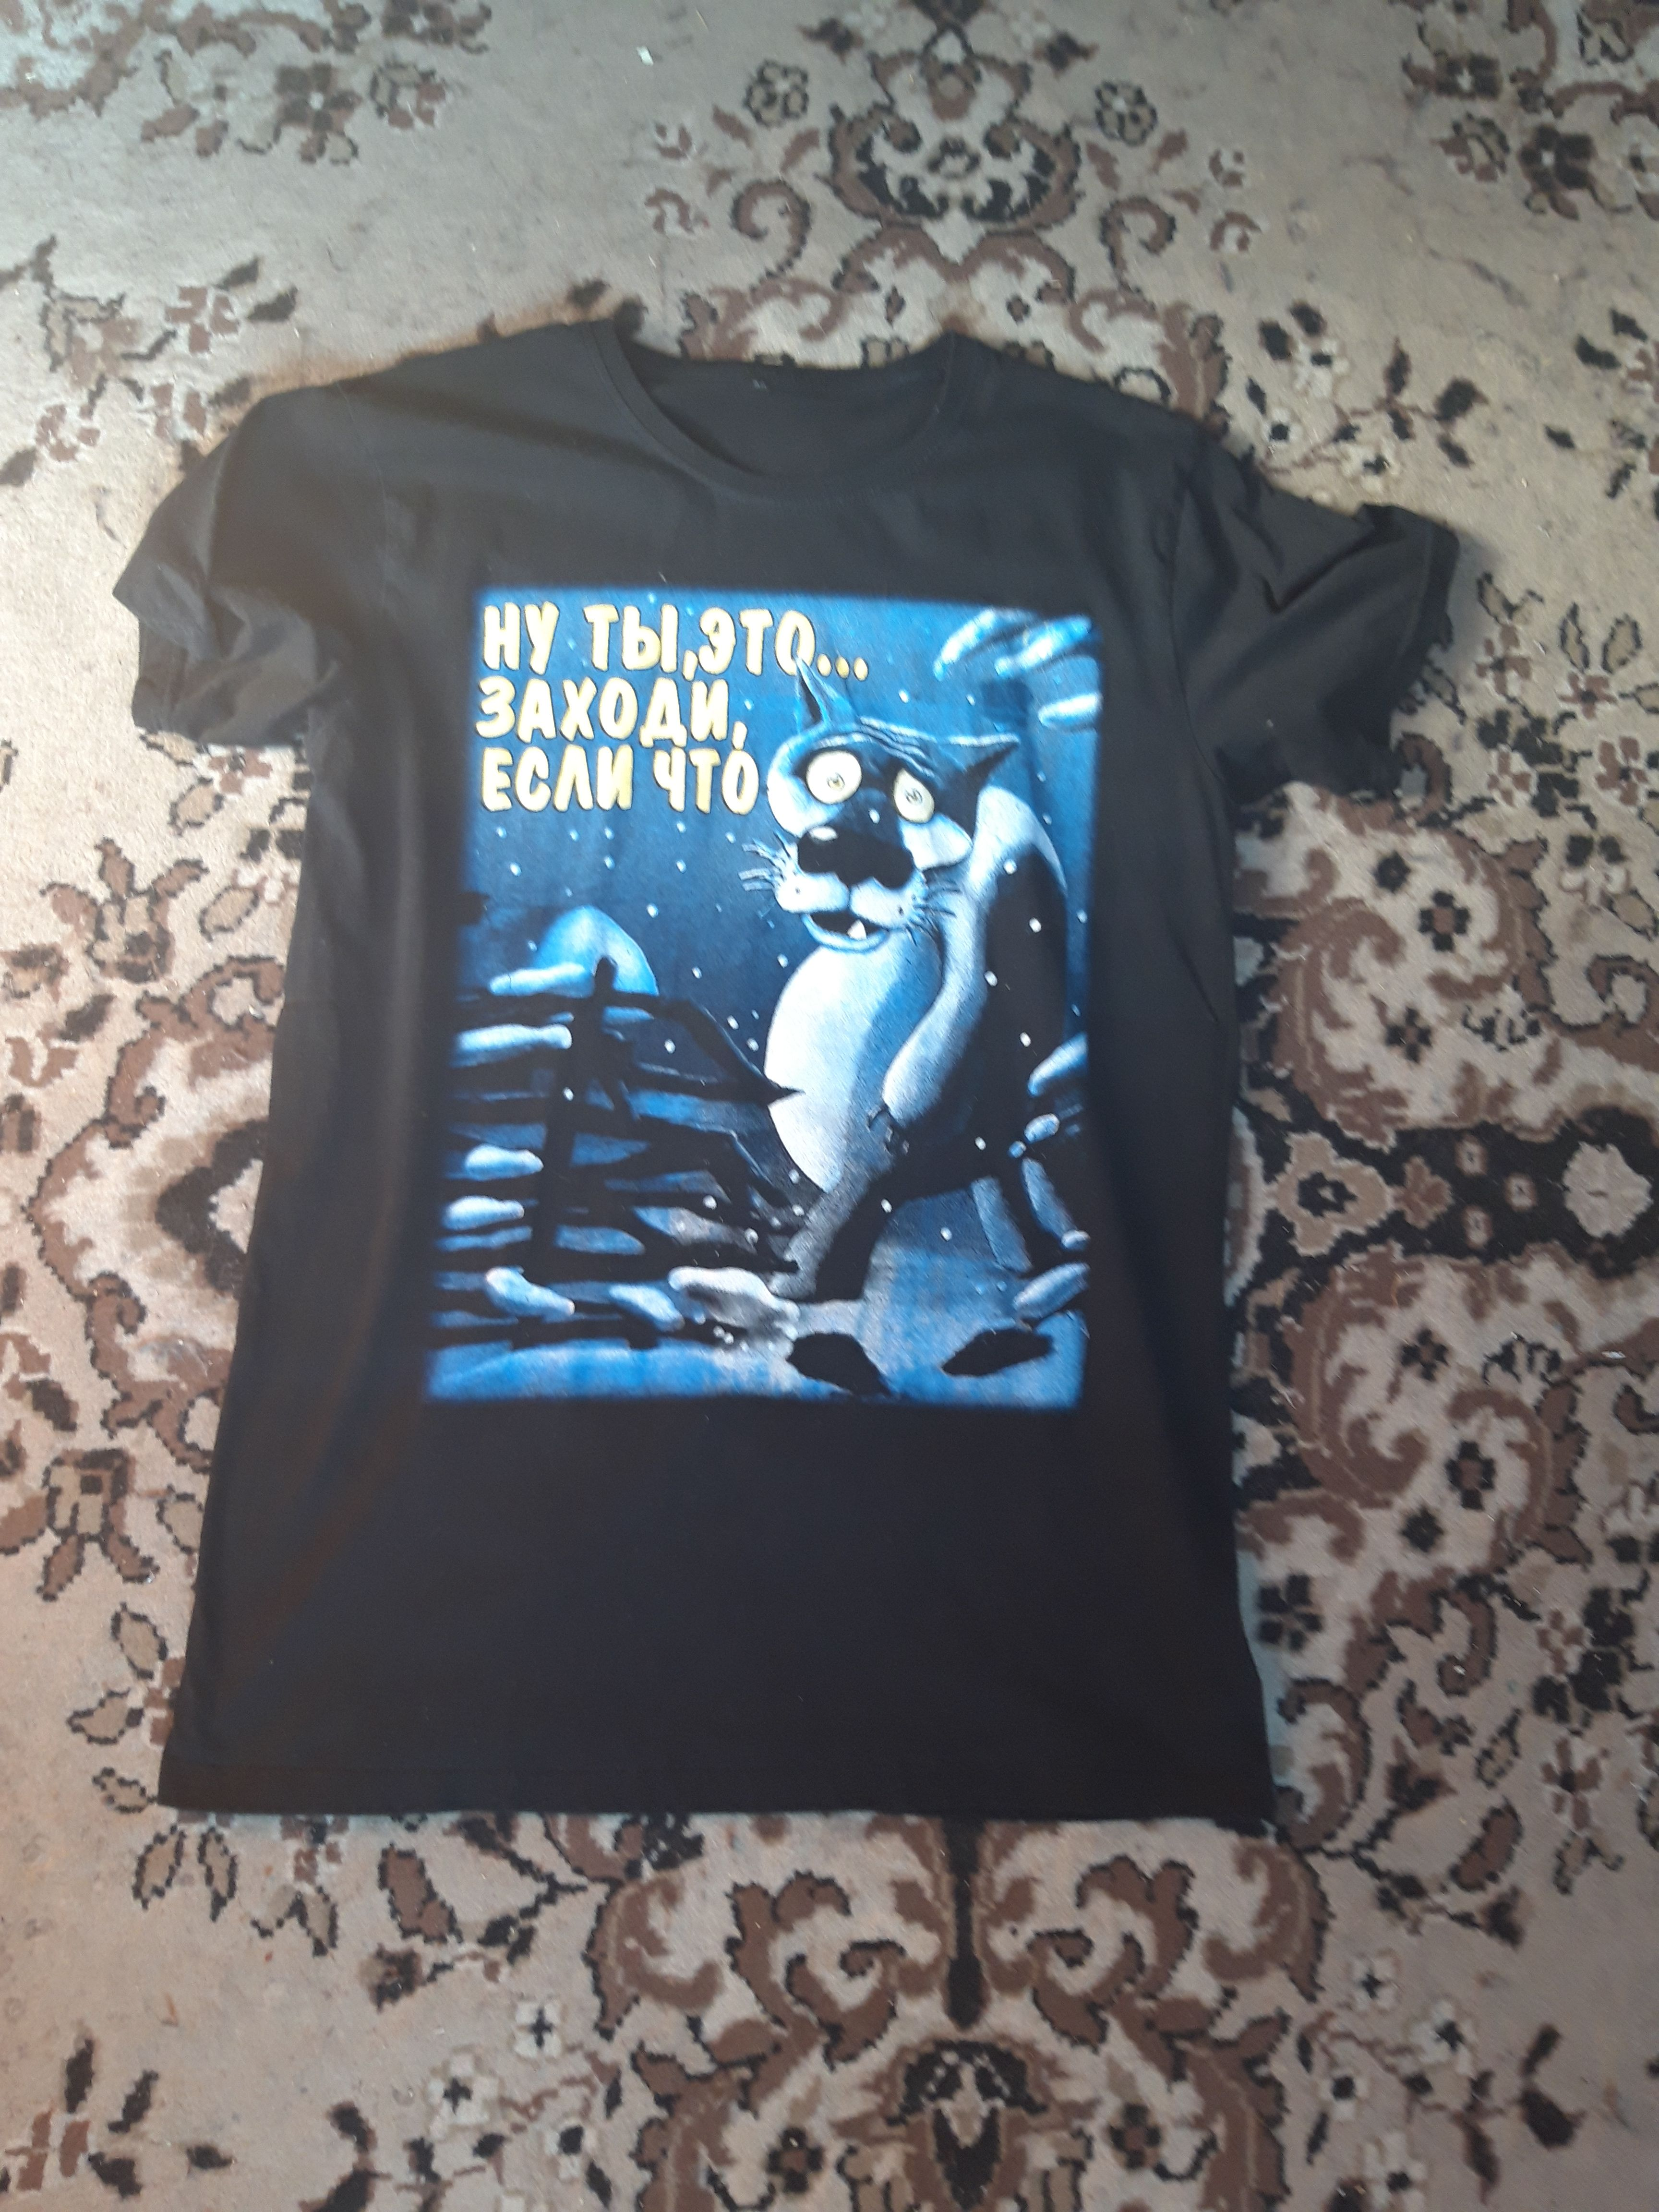clothes: (159, 293, 1419, 1888)
